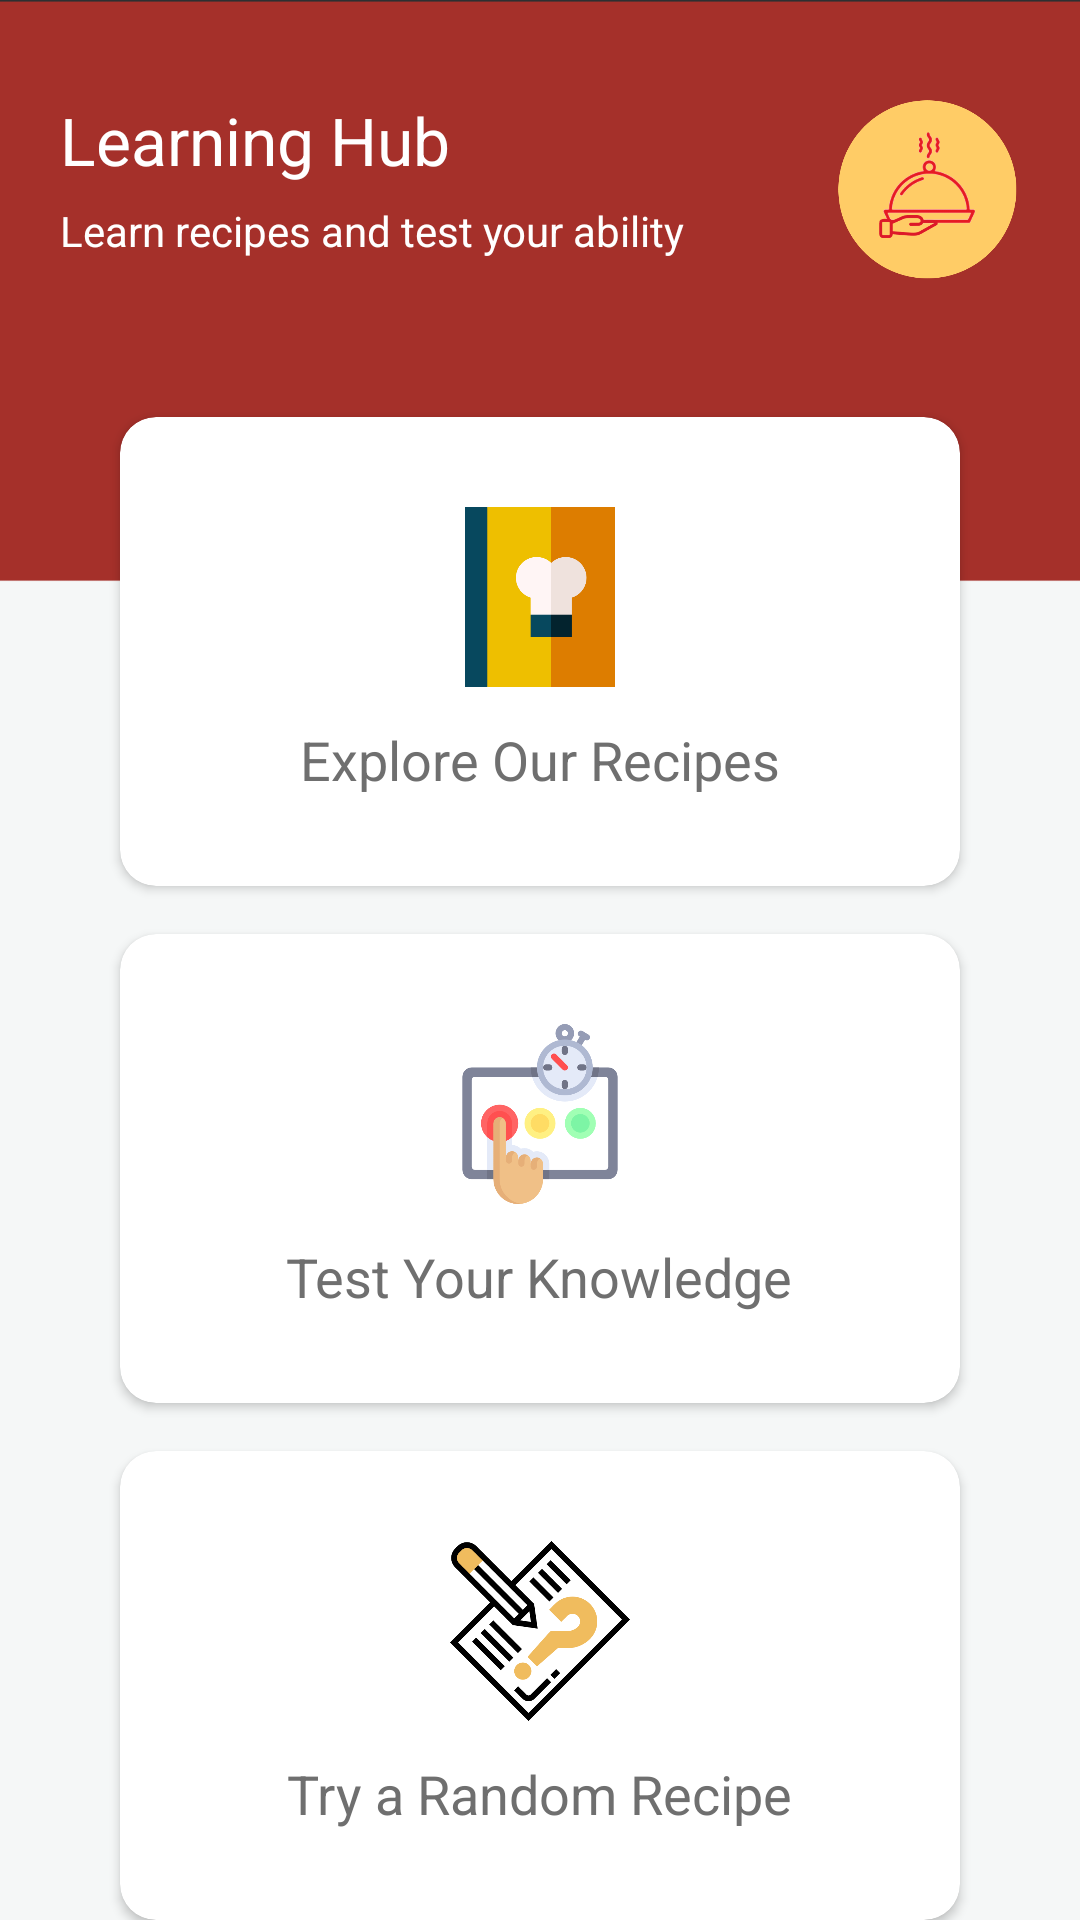

Icons on this 1080px×1920px Android screen, each with its box as {"left": x1, "top": y1, "right": x2, "bottom": y2}:
exam: {"left": 462, "top": 1024, "right": 618, "bottom": 1204}
mystery: {"left": 450, "top": 1541, "right": 630, "bottom": 1721}
